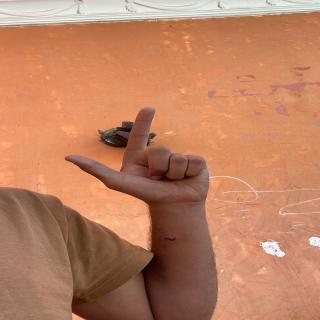LAAM: (62, 100, 244, 216)
